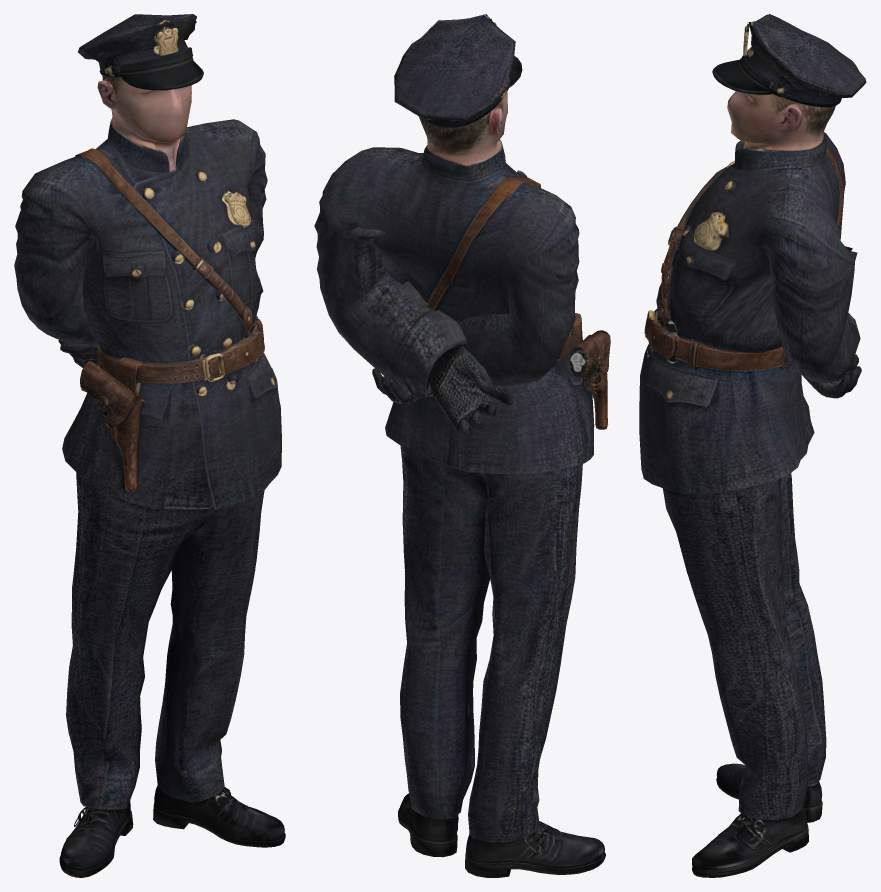
File: PrisonGuard_Idle.fbx
The picture shows the model from 3 angles, left to right: view 1: azimuth 30°, elevation 25°; view 2: azimuth 150°, elevation 25°; view 3: azimuth 270°, elevation 25°; orthographic projection. The views are drawn at different scales.
Parts seen in each view (by area): view 1: f74c5e8f_12fa_48dc_96b6_026f501fe38d.002; view 2: f74c5e8f_12fa_48dc_96b6_026f501fe38d.002; view 3: f74c5e8f_12fa_48dc_96b6_026f501fe38d.002.
Boxes of the visible parts, left/top/right/bottom form: f74c5e8f_12fa_48dc_96b6_026f501fe38d.002: left=14, top=14, right=285, bottom=877; f74c5e8f_12fa_48dc_96b6_026f501fe38d.002: left=314, top=14, right=610, bottom=877; f74c5e8f_12fa_48dc_96b6_026f501fe38d.002: left=639, top=14, right=866, bottom=877.
Size of the model in its own units: 160 by 129 by 508.
